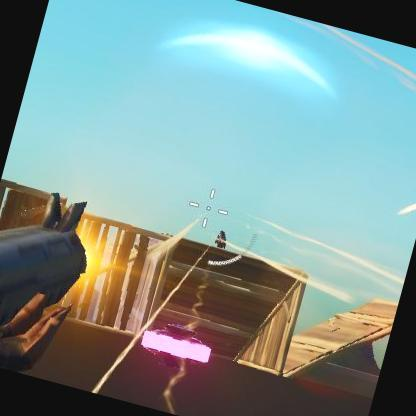person: (214, 230, 232, 249)
